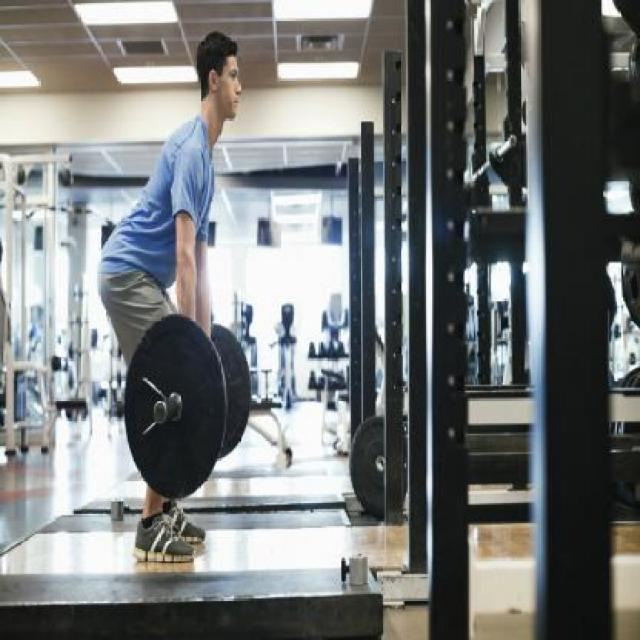Barbell: (150, 397, 168, 428)
